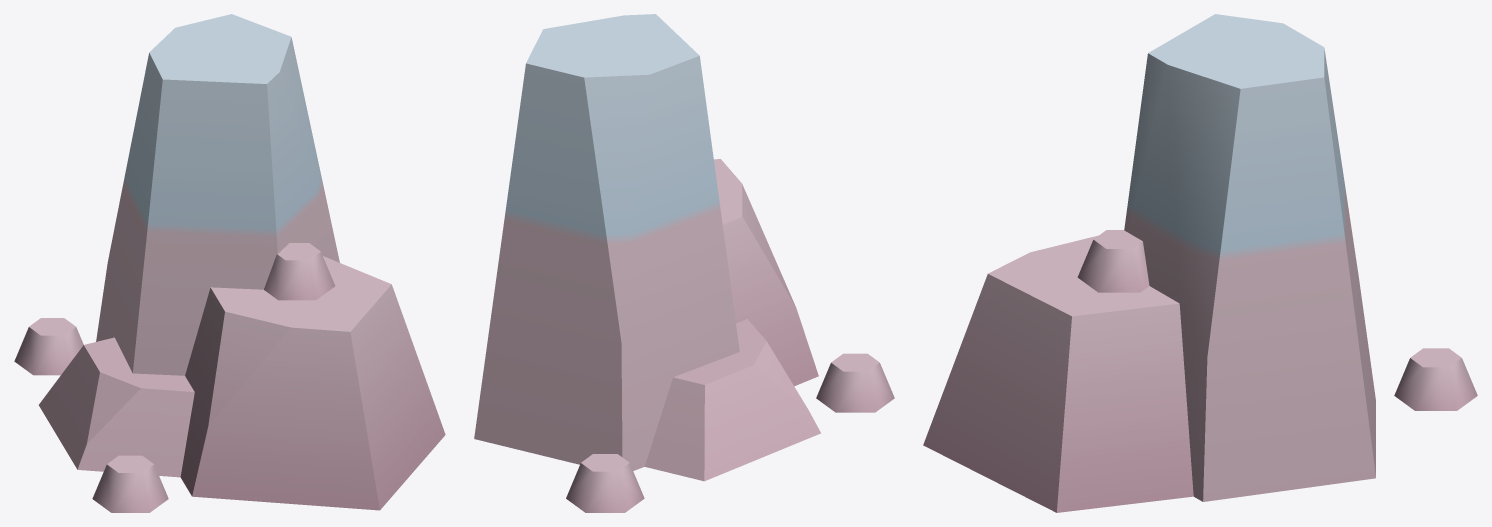
The model's file is rock_small.obj.
The picture shows the model from 3 angles, left to right: view 1: azimuth 30°, elevation 25°; view 2: azimuth 150°, elevation 25°; view 3: azimuth 270°, elevation 25°; orthographic projection. The views are drawn at different scales.
Parts seen in each view (by area): view 1: rock-small; view 2: rock-small; view 3: rock-small.
Part boxes in pixels (bbox=[...]): rock-small: bbox=[14, 14, 445, 512]; rock-small: bbox=[474, 14, 894, 512]; rock-small: bbox=[923, 14, 1477, 512].
Size of the model in its own units: 7.06 by 7.21 by 9.38.
1 material, 1 textured.
